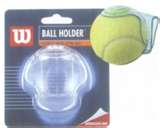tennis ball: (90, 4, 148, 66)
